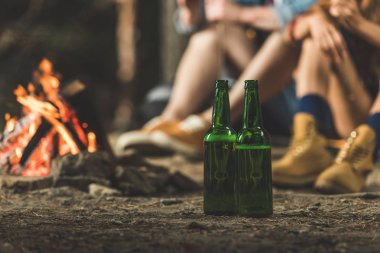fire: (23, 75, 63, 125)
